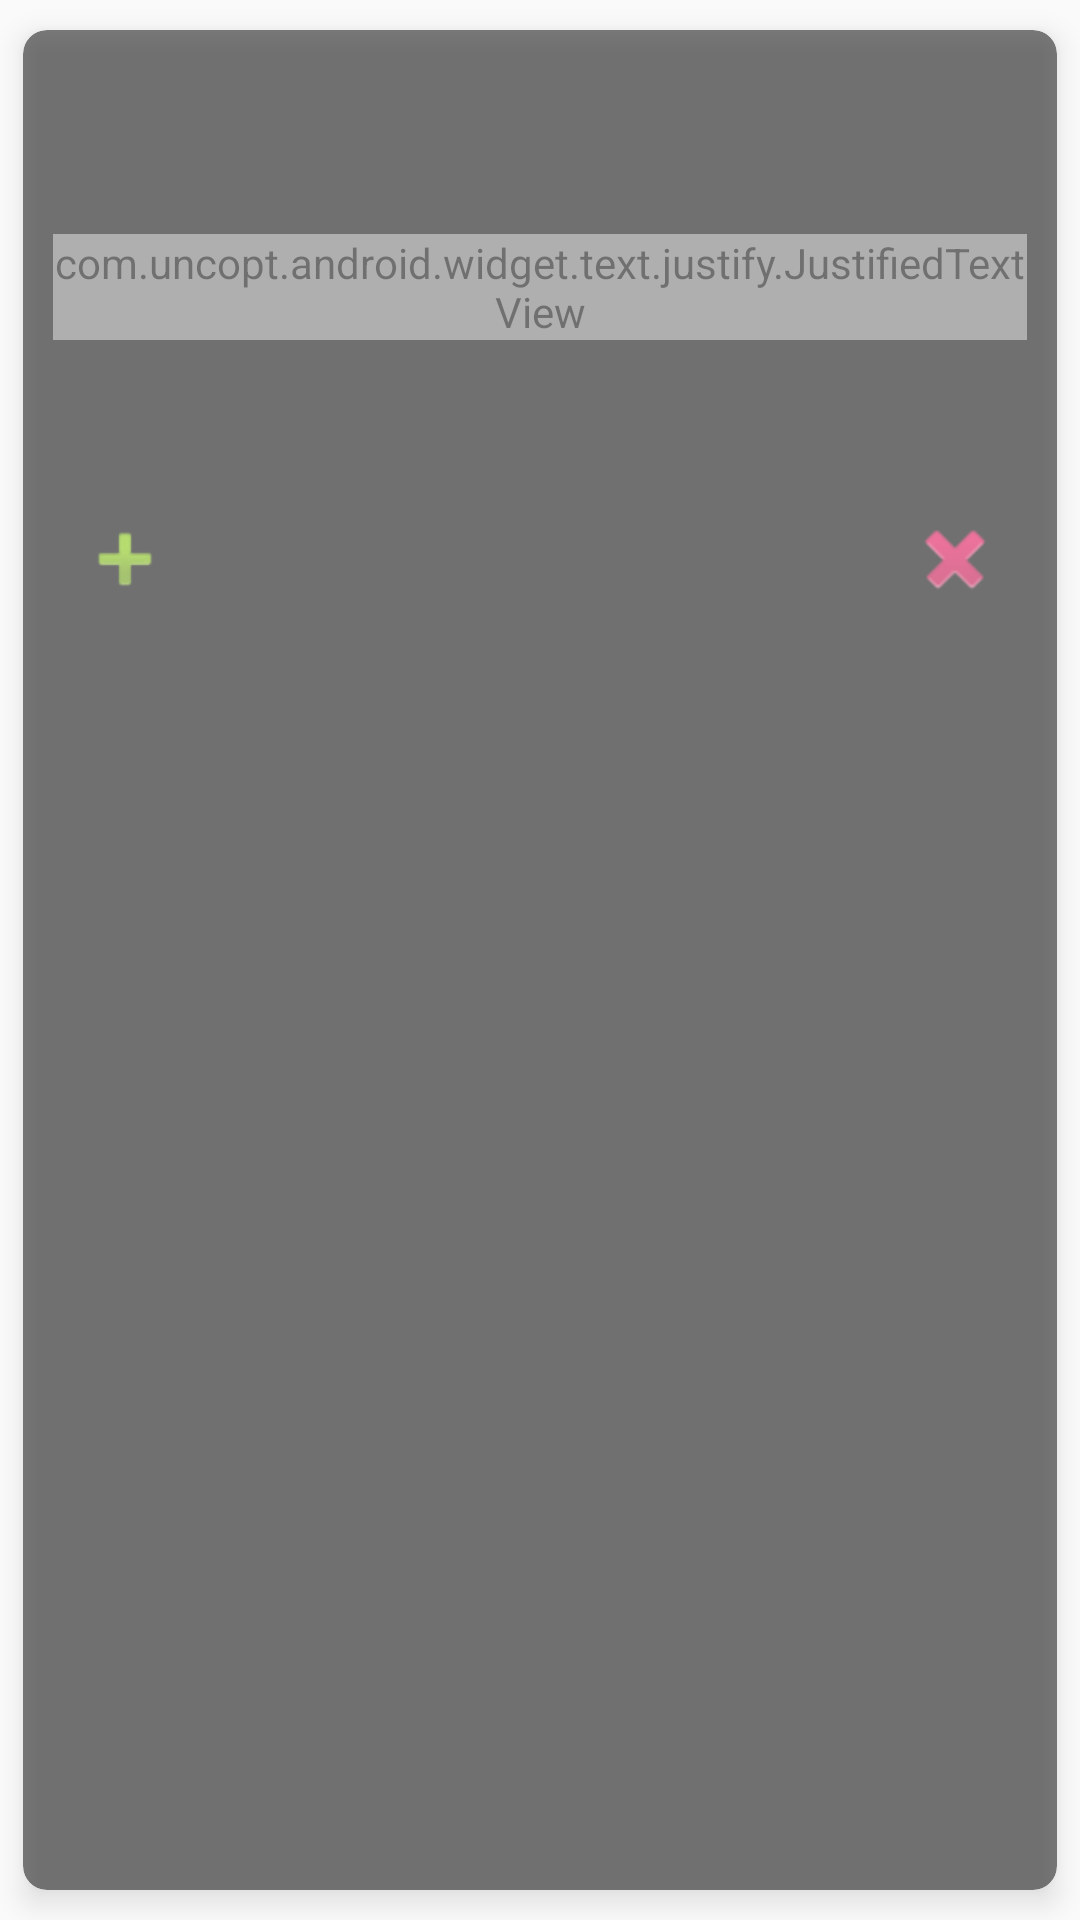

Icons on this 1080 x 1920 Android screen, each with the point to tap as (x,y):
add: (125,559)
delete: (955,559)
